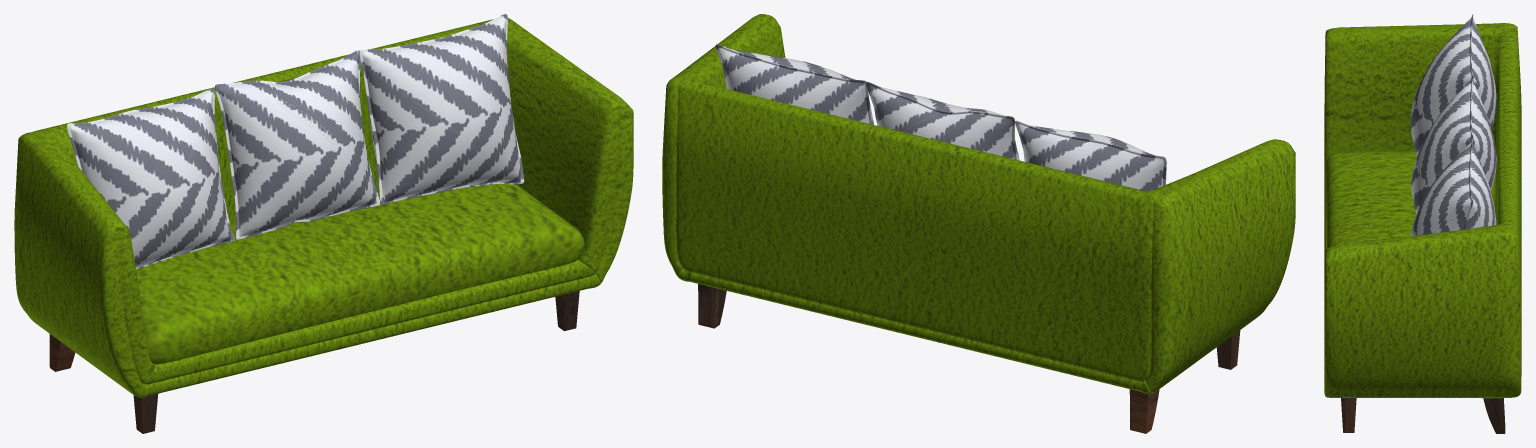
3 views of the same model, side by side, from view 1: azimuth 30°, elevation 25°; view 2: azimuth 150°, elevation 25°; view 3: azimuth 270°, elevation 25° (orthographic). The views are drawn at different scales.
Visible parts, largest first — view 1: pillow_01_geo, couch, seat, Legs_01_geo; view 2: couch, pillow_01_geo, Legs_01_geo; view 3: couch, pillow_01_geo, seat, Legs_01_geo.
Part boxes in pixels (x1=…): pillow_01_geo: x1=67, y1=14, x2=524, y2=269; couch: x1=14, y1=18, x2=633, y2=397; seat: x1=136, y1=184, x2=584, y2=364; Legs_01_geo: x1=49, y1=291, x2=579, y2=433; couch: x1=662, y1=14, x2=1295, y2=393; pillow_01_geo: x1=715, y1=44, x2=1166, y2=191; Legs_01_geo: x1=698, y1=284, x2=1240, y2=433; couch: x1=1324, y1=23, x2=1521, y2=398; pillow_01_geo: x1=1410, y1=14, x2=1496, y2=236; seat: x1=1325, y1=151, x2=1495, y2=248; Legs_01_geo: x1=1341, y1=398, x2=1505, y2=433.
Bounding box in the file's own units: 2.09 × 0.9807 × 0.7535.
4 materials, 4 textured.
